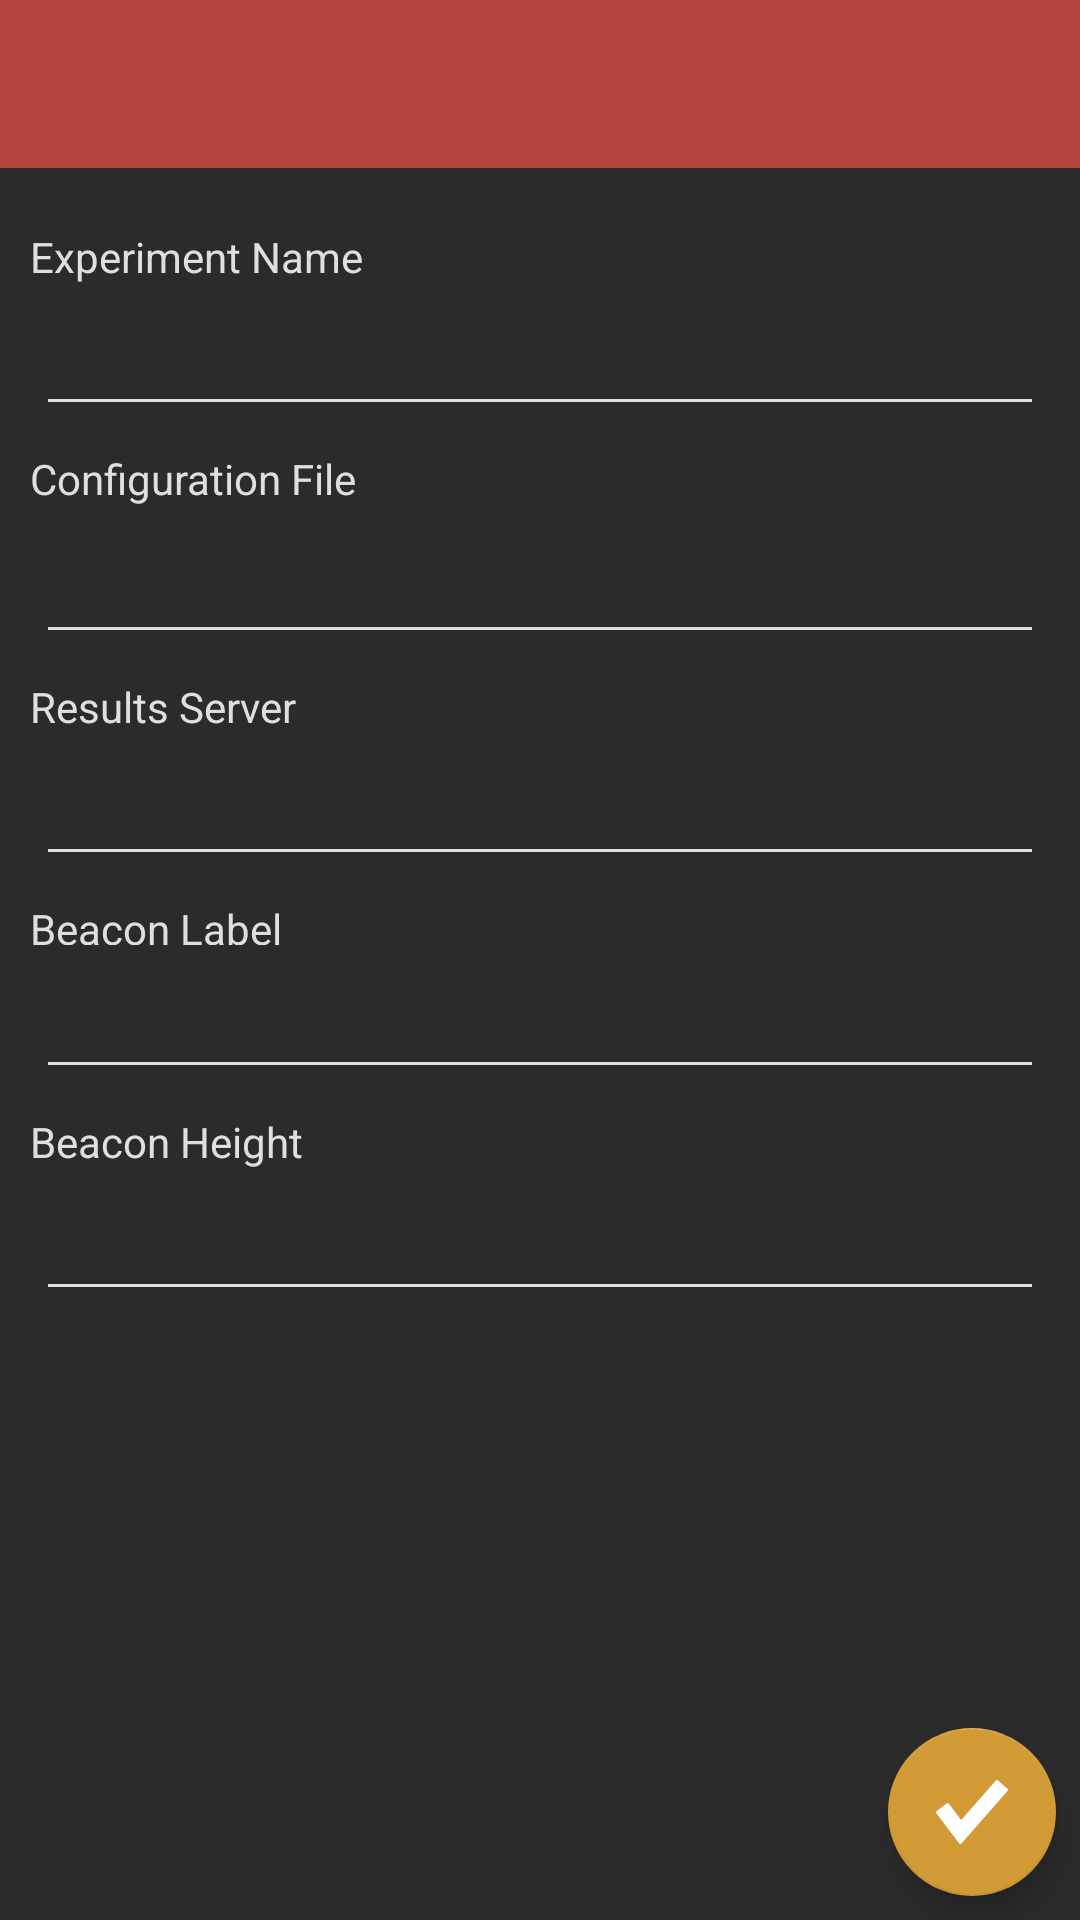

Screen size 1080px x 1920px. Icon name, then its center in pixels as (x,y):
checkmark: (972,1812)
